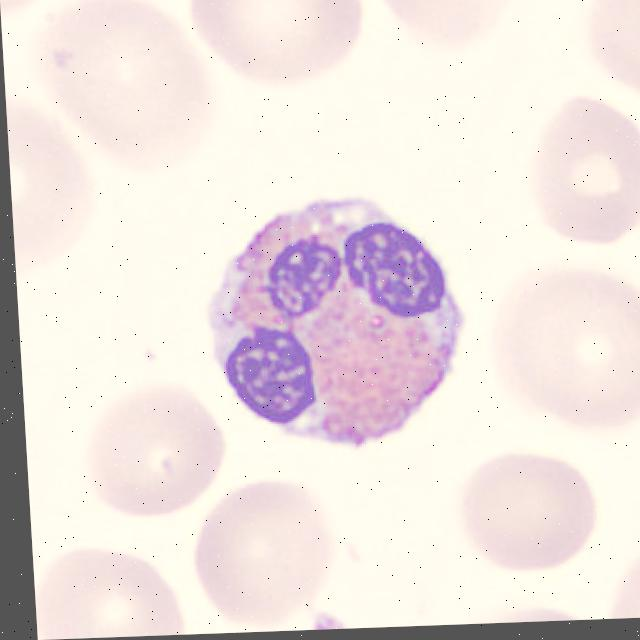eosinophil: (197, 192, 474, 460)
rbc: (23, 0, 220, 177), (490, 278, 640, 439), (195, 487, 344, 634), (81, 375, 228, 519), (6, 87, 108, 281), (448, 456, 601, 582), (518, 100, 640, 251), (187, 0, 365, 97), (32, 533, 188, 640), (370, 0, 508, 69), (573, 0, 640, 124), (441, 597, 607, 625), (597, 540, 640, 619)
